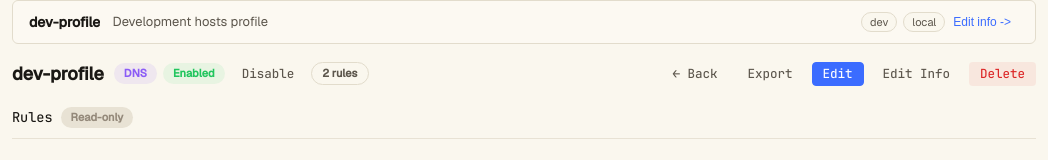
it: ProfileView › returns to Read-only when Cancel is clicked in DNS editing mode
Click the button "Edit" at x=838, y=74, box [812,62,864,86]
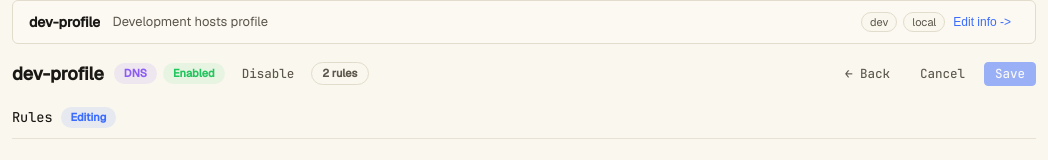
Expected: the text "Editing" is shown, [61,107,116,128]
Click the button "Cancel" at x=942, y=74, box [909,62,976,86]
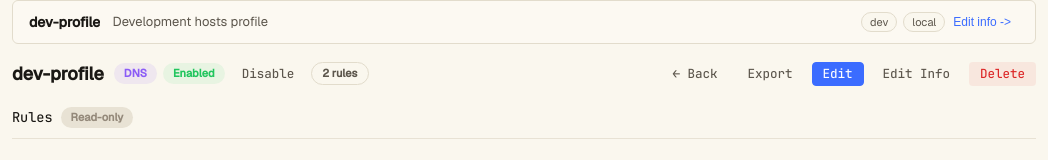
Expected: the text "Read-only" is shown, [61,107,133,128]
Expected: the text "Editing" is gone
Expected: the button "Edit" is shown, [812,62,864,86]
